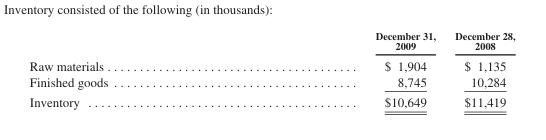table: (28, 29, 514, 109)
table column: (28, 29, 241, 109), (241, 29, 444, 109), (444, 29, 514, 109)
table column header: (28, 29, 514, 55)
table row: (28, 29, 514, 55), (28, 55, 514, 73), (28, 73, 514, 91), (28, 91, 514, 109)
